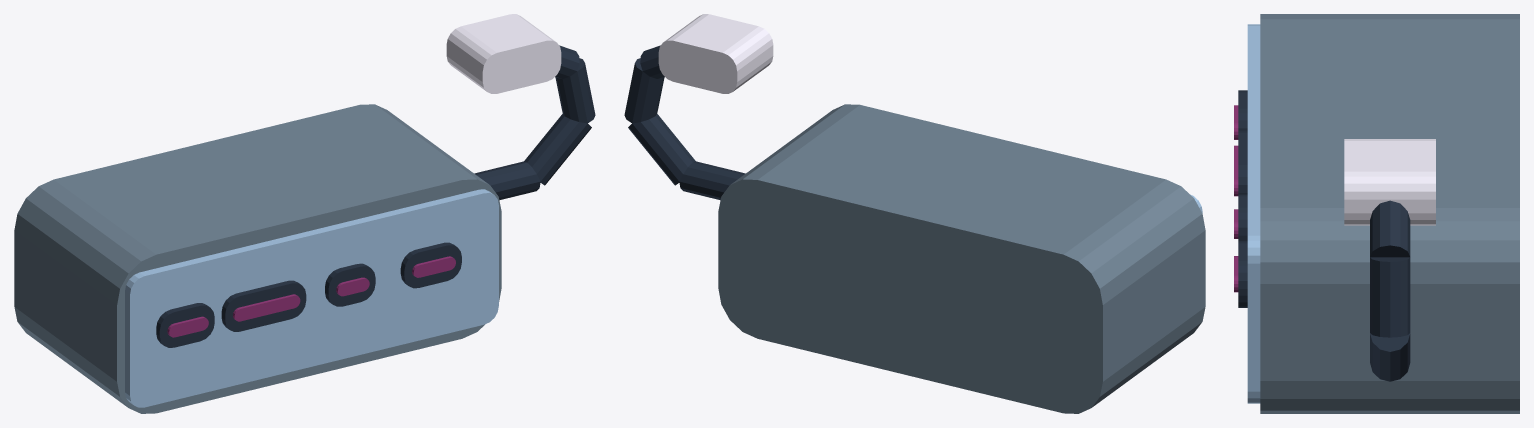
The model's file is adapterhub.glb.
3 views of the same model, side by side, from view 1: azimuth 30°, elevation 25°; view 2: azimuth 150°, elevation 25°; view 3: azimuth 270°, elevation 25° (orthographic). The views are drawn at different scales.
Visible parts, largest first — view 1: shell, face, plug, port 1, cable1, port 3, cable2, cable0, port 0, port 2, port tongue 1, port tongue 3 (+2 smaller); view 2: shell, plug, cable1, cable2, cable0, cable3; view 3: shell, plug, face, cable2, cable3, cable1, port 3, port 1, port 2, port 0.
Part boxes in pixels (x1=…): shell: x1=14, y1=104, x2=501, y2=413; face: x1=125, y1=189, x2=498, y2=407; plug: x1=446, y1=14, x2=561, y2=93; port 1: x1=221, y1=280, x2=306, y2=331; cable1: x1=524, y1=114, x2=591, y2=185; port 3: x1=400, y1=242, x2=461, y2=288; cable2: x1=555, y1=58, x2=595, y2=123; cable0: x1=474, y1=161, x2=540, y2=200; port 0: x1=156, y1=303, x2=214, y2=347; port 2: x1=325, y1=263, x2=375, y2=306; port tongue 1: x1=233, y1=294, x2=300, y2=321; port tongue 3: x1=412, y1=256, x2=455, y2=277; shell: x1=718, y1=104, x2=1205, y2=413; plug: x1=658, y1=14, x2=773, y2=93; cable1: x1=628, y1=114, x2=695, y2=185; cable2: x1=624, y1=58, x2=664, y2=123; cable0: x1=679, y1=161, x2=745, y2=200; cable3: x1=640, y1=45, x2=664, y2=78; shell: x1=1260, y1=14, x2=1519, y2=413; plug: x1=1344, y1=139, x2=1435, y2=225; face: x1=1247, y1=24, x2=1260, y2=403; cable2: x1=1370, y1=257, x2=1410, y2=337; cable3: x1=1370, y1=200, x2=1410, y2=257; cable1: x1=1370, y1=333, x2=1410, y2=381; port 3: x1=1238, y1=241, x2=1247, y2=307; port 1: x1=1238, y1=130, x2=1247, y2=194; port 2: x1=1238, y1=194, x2=1247, y2=241; port 0: x1=1238, y1=90, x2=1247, y2=130.
Bounding box in the file's own units: 2.02 × 0.895 × 0.749.
